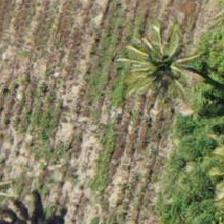coconut_tree: (127, 23, 217, 113)
